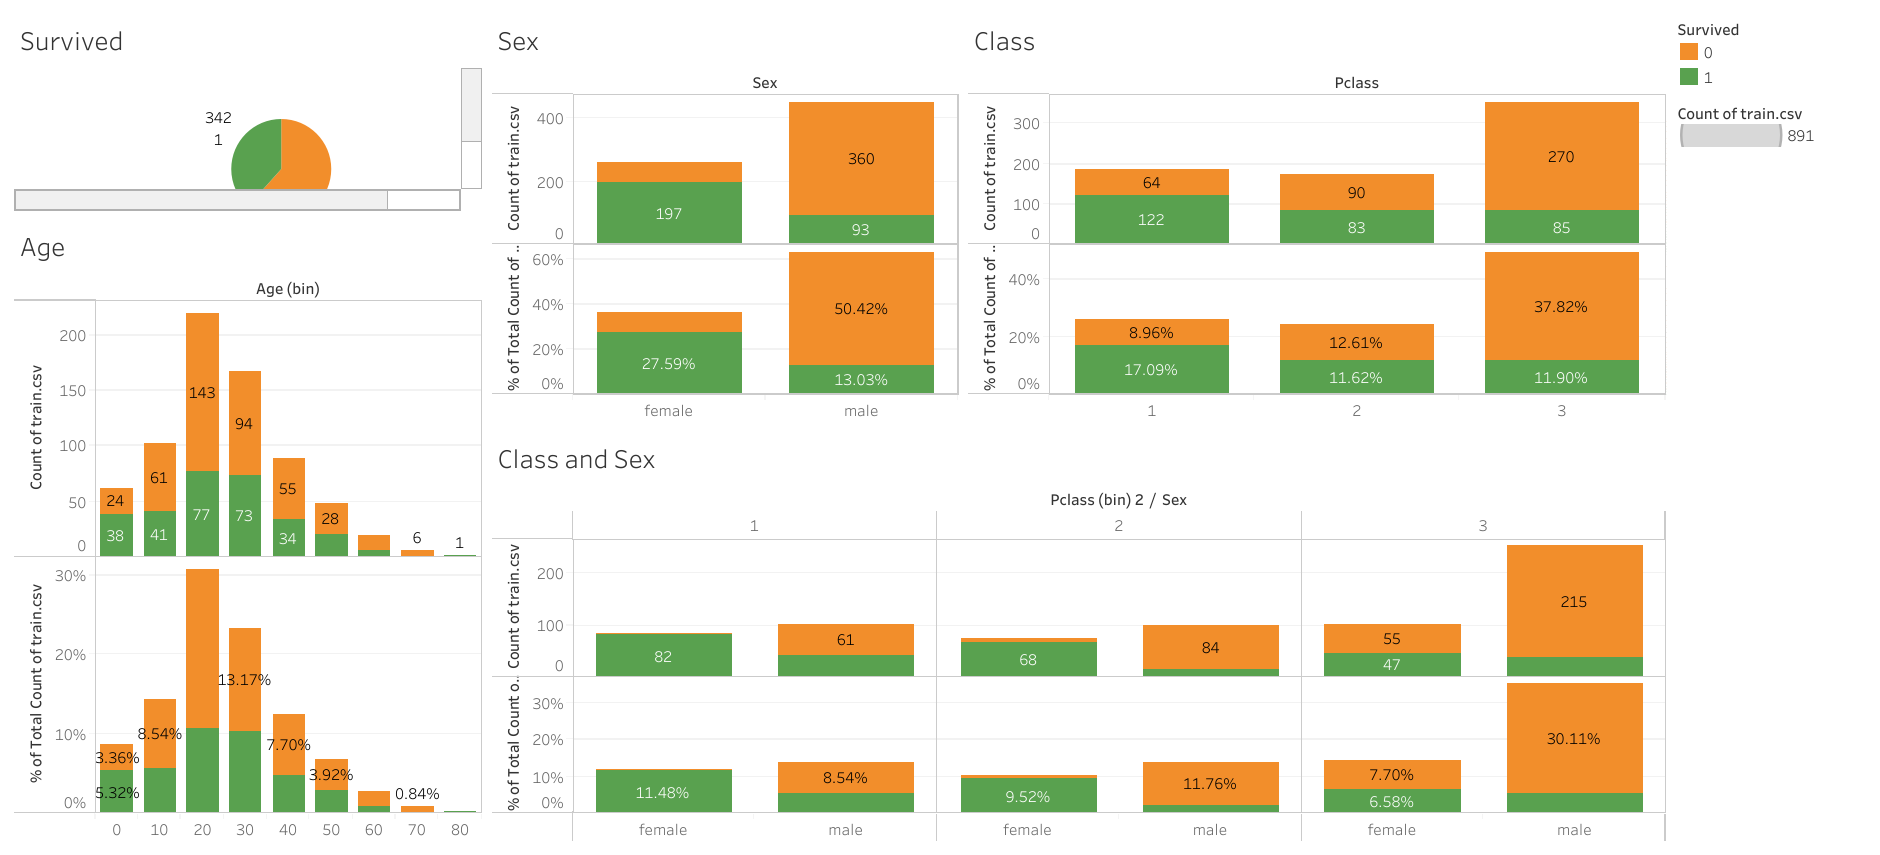

What the dashboard file says about the page in this screenshot:
{"tool":"tableau","page":{"name":"Dashboard 1","canvas":[1000,1000],"units":"permille","ordinal":0},"visuals":[{"type":"worksheet","title":"Survived","mark":"Pie","box":[4.9,8.2,256.5,242]},{"type":"worksheet","title":"Sex","mark":"Automatic","rows":["train.csv_2F92BCAD8D524A46A8495A9A4AE740F7","train.csv_2F92BCAD8D524A46A8495A9A4AE740F7"],"cols":["Sex"],"box":[261.4,8.2,255.8,491.2]},{"type":"worksheet","title":"Class","mark":"Automatic","rows":["train.csv_2F92BCAD8D524A46A8495A9A4AE740F7","train.csv_2F92BCAD8D524A46A8495A9A4AE740F7"],"cols":["Pclass"],"box":[517.2,8.2,379.5,491.2]},{"type":"legend","title":"Age","param":"[federated.18vrqoe0wqyb9i1fjgsok0b9qavs].[none:Survived:ok]","box":[896.7,8.2,98.4,74.2]},{"type":"legend","title":"Survived","param":"[federated.18vrqoe0wqyb9i1fjgsok0b9qavs].[__tableau_internal_object_id__].[cnt:t","box":[896.7,82.4,98.4,52.5]},{"type":"worksheet","title":"Age","mark":"Automatic","rows":["train.csv_2F92BCAD8D524A46A8495A9A4AE740F7","train.csv_2F92BCAD8D524A46A8495A9A4AE740F7"],"cols":["Age (bin)"],"box":[4.9,250.3,256.5,741.5]},{"type":"worksheet","title":"Class and Sex","mark":"Automatic","rows":["train.csv_2F92BCAD8D524A46A8495A9A4AE740F7","train.csv_2F92BCAD8D524A46A8495A9A4AE740F7"],"cols":["Pclass (bin) 2","Sex"],"box":[261.4,499.5,635.3,492.3]}]}

Visuals, with their boxes on the dashboard's canvas, which has no fixed pixel size, in thousandths of its width and height (x1, y1, x2, y2). These are canvas units, not pixel positions in the 1880x855 screenshot, which may show the page scaled, cropped or inside an application window:
"Survived" worksheet (Pie marks): locate(5, 8, 261, 250)
"Sex" worksheet: locate(261, 8, 517, 499)
"Class" worksheet: locate(517, 8, 897, 499)
"Age" legend: locate(897, 8, 995, 82)
"Survived" legend: locate(897, 82, 995, 135)
"Age" worksheet: locate(5, 250, 261, 992)
"Class and Sex" worksheet: locate(261, 500, 897, 992)
